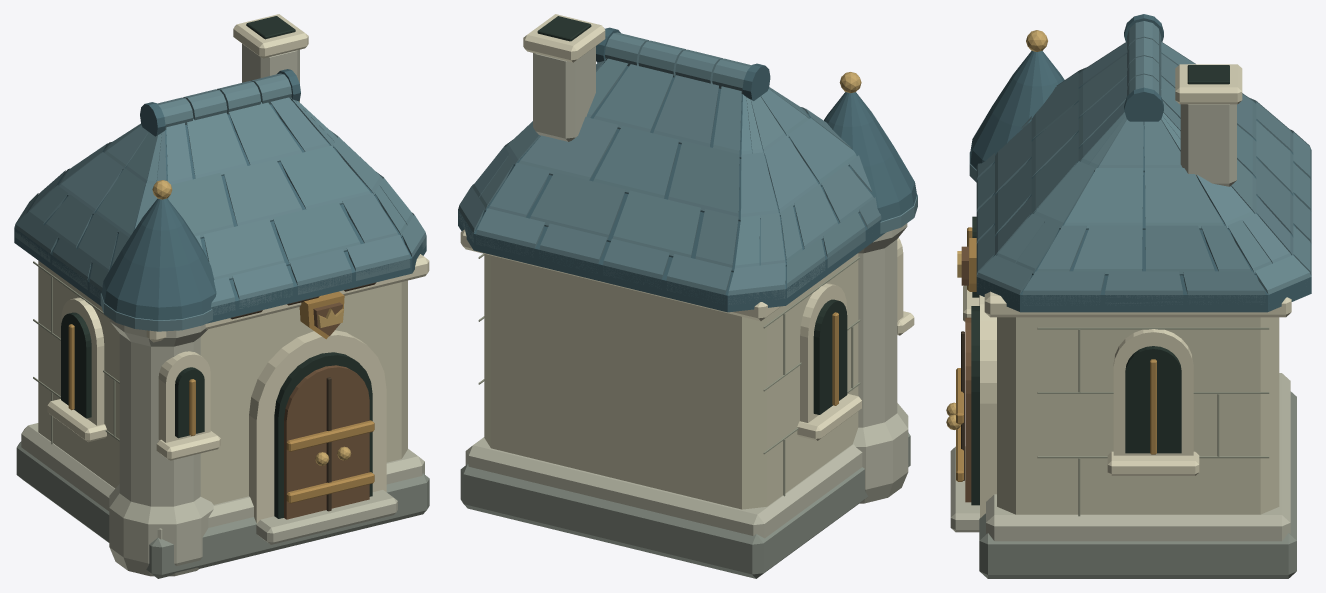
Rendered from house_2.glb.
3 views of the same model, side by side, from view 1: azimuth 30°, elevation 25°; view 2: azimuth 150°, elevation 25°; view 3: azimuth 270°, elevation 25° (orthographic). The views are drawn at different scales.
Visible parts, largest first — view 1: Stone, Roof, Timber, Metal; view 2: Stone, Roof, Metal; view 3: Stone, Roof, Metal, Timber.
Part boxes in pixels (x1=…): Stone: x1=16, y1=14, x2=429, y2=578; Roof: x1=14, y1=69, x2=426, y2=331; Timber: x1=230, y1=282, x2=376, y2=519; Metal: x1=68, y1=180, x2=374, y2=503; Stone: x1=460, y1=14, x2=914, y2=578; Roof: x1=458, y1=27, x2=917, y2=312; Metal: x1=832, y1=72, x2=861, y2=405; Stone: x1=950, y1=64, x2=1296, y2=578; Roof: x1=969, y1=14, x2=1311, y2=312; Metal: x1=946, y1=30, x2=1156, y2=481; Timber: x1=961, y1=246, x2=971, y2=502.
Size of the model in its own units: 2.77 by 3.67 by 2.55.
